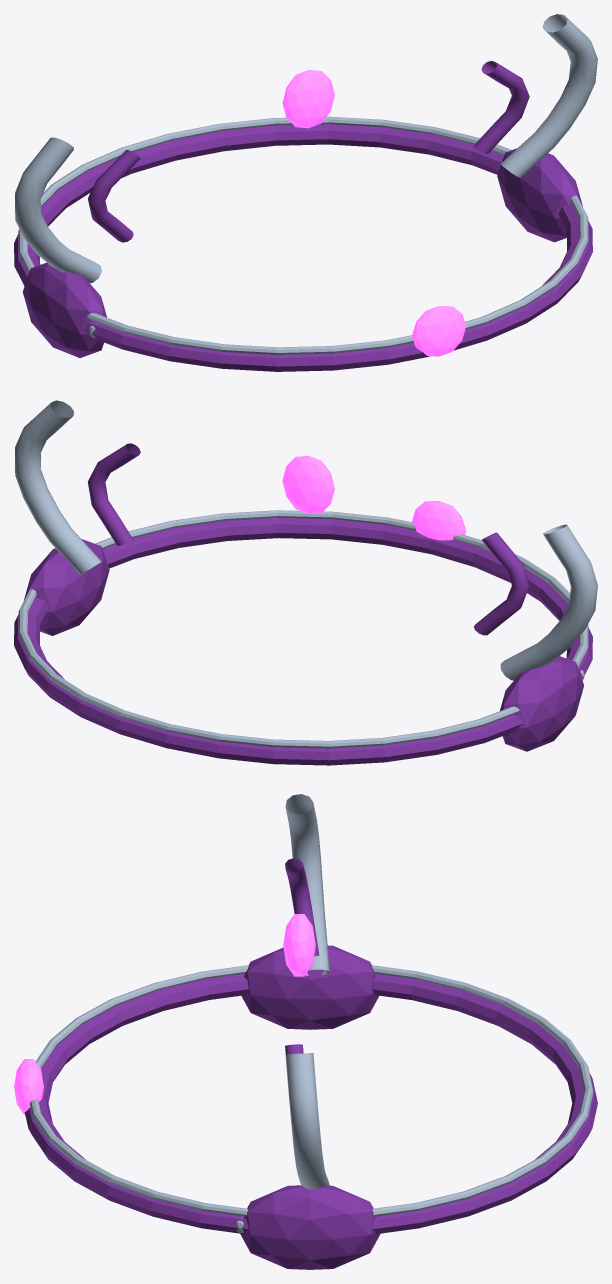
Rendered from helmet_eclipse.glb.
The picture shows the model from 3 angles, top to bottom: view 1: azimuth 30°, elevation 25°; view 2: azimuth 150°, elevation 25°; view 3: azimuth 270°, elevation 25°; orthographic projection. The views are drawn at different scales.
Visible parts, largest first — view 1: EclipseCirclet, SilverTrim, TempleGuard, CrescentHorn.001, CrescentHorn, TempleGuard.001, CrownGem, FrontGem, VoidArc.001, VoidArc; view 2: EclipseCirclet, SilverTrim, TempleGuard, CrescentHorn.001, CrescentHorn, TempleGuard.001, CrownGem, VoidArc, VoidArc.001, FrontGem; view 3: EclipseCirclet, TempleGuard.001, SilverTrim, TempleGuard, CrescentHorn.001, CrescentHorn, CrownGem, VoidArc, FrontGem.
Part boxes in pixels (left/top/right/bottom): EclipseCirclet: left=14, top=124, right=592, bottom=371; SilverTrim: left=18, top=116, right=588, bottom=354; TempleGuard: left=23, top=262, right=106, bottom=357; CrescentHorn.001: left=501, top=14, right=597, bottom=178; CrescentHorn: left=15, top=137, right=101, bottom=283; TempleGuard.001: left=497, top=148, right=582, bottom=242; CrownGem: left=282, top=70, right=334, bottom=128; FrontGem: left=412, top=306, right=466, bottom=356; VoidArc.001: left=474, top=61, right=529, bottom=153; VoidArc: left=88, top=149, right=140, bottom=242; EclipseCirclet: left=14, top=517, right=592, bottom=765; SilverTrim: left=18, top=510, right=588, bottom=748; TempleGuard: left=500, top=656, right=583, bottom=751; CrescentHorn.001: left=15, top=400, right=101, bottom=574; CrescentHorn: left=500, top=524, right=597, bottom=680; TempleGuard.001: left=24, top=539, right=109, bottom=635; CrownGem: left=282, top=455, right=334, bottom=514; VoidArc: left=474, top=532, right=529, bottom=635; VoidArc.001: left=88, top=443, right=140, bottom=545; FrontGem: left=412, top=501, right=466, bottom=540; EclipseCirclet: left=24, top=973, right=597, bottom=1234; TempleGuard.001: left=240, top=1185, right=380, bottom=1269; SilverTrim: left=30, top=965, right=593, bottom=1216; TempleGuard: left=241, top=945, right=378, bottom=1029; CrescentHorn.001: left=285, top=1053, right=329, bottom=1189; CrescentHorn: left=285, top=794, right=329, bottom=975; CrownGem: left=283, top=914, right=315, bottom=976; VoidArc: left=285, top=858, right=319, bottom=956; FrontGem: left=14, top=1059, right=43, bottom=1115.
Bounding box in the file's own units: 1.4 × 0.522 × 1.18.
